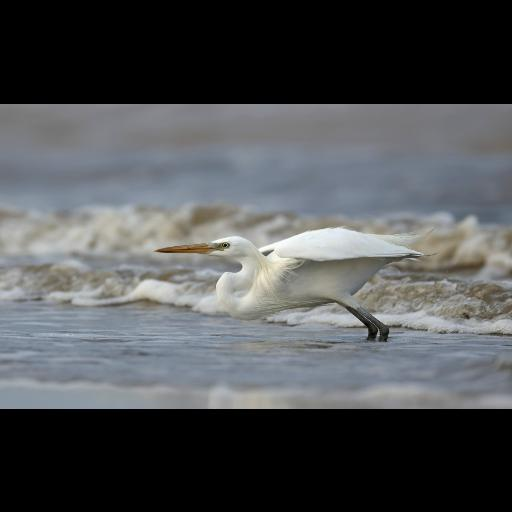chinese_egret: (152, 223, 438, 341)
